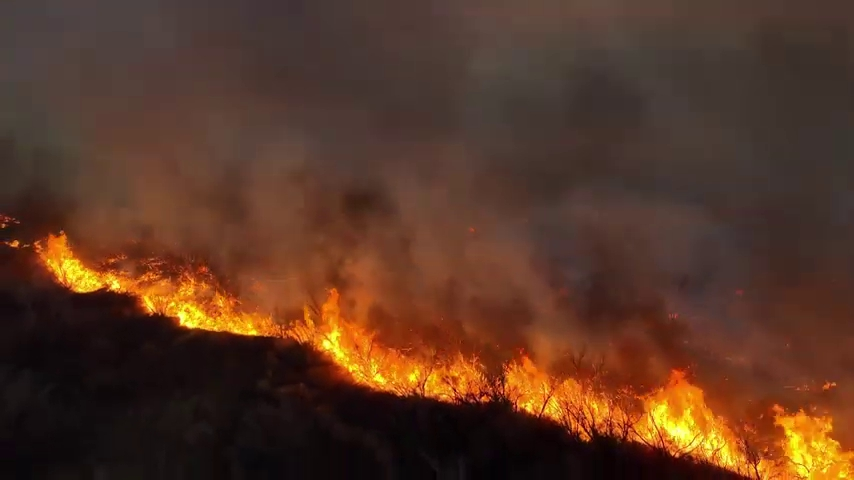forest_fire: (31, 233, 492, 401), (501, 354, 853, 477), (3, 215, 16, 227), (9, 242, 20, 245), (113, 257, 121, 260)
